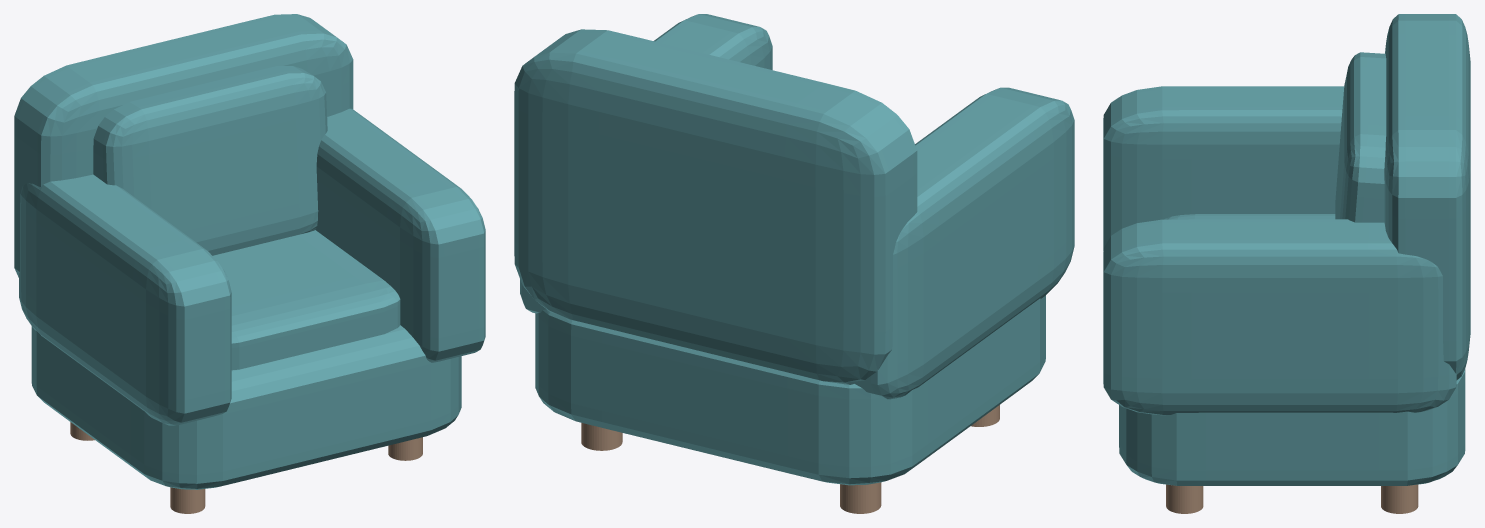
The model's file is armchair.glb.
3 renders of one model, left to right at view 1: azimuth 30°, elevation 25°; view 2: azimuth 150°, elevation 25°; view 3: azimuth 270°, elevation 25°, orthographic. The views are drawn at different scales.
Parts seen in each view (by area): view 1: arm-1, base, cushion0, arm1, back, seat0, foot-0.39-0.31, foot0.39-0.31; view 2: back, base, arm-1, arm1, foot-0.390.31, foot0.390.31; view 3: arm1, arm-1, base, back, cushion0, foot0.390.31, foot0.39-0.31, seat0.
Part boxes in pixels (x1=…): arm-1: x1=19, y1=174, x2=231, y2=425; base: x1=31, y1=325, x2=461, y2=489; cushion0: x1=93, y1=66, x2=327, y2=255; arm1: x1=315, y1=108, x2=485, y2=362; back: x1=14, y1=14, x2=353, y2=277; seat0: x1=213, y1=230, x2=400, y2=370; foot-0.39-0.31: x1=170, y1=487, x2=205, y2=513; foot0.39-0.31: x1=388, y1=437, x2=422, y2=460; back: x1=514, y1=29, x2=917, y2=384; base: x1=535, y1=295, x2=1045, y2=485; arm-1: x1=855, y1=87, x2=1074, y2=399; arm1: x1=520, y1=14, x2=772, y2=313; foot-0.390.31: x1=840, y1=482, x2=881, y2=513; foot0.390.31: x1=581, y1=423, x2=622, y2=450; arm1: x1=1103, y1=219, x2=1456, y2=415; arm-1: x1=1103, y1=86, x2=1344, y2=250; base: x1=1119, y1=369, x2=1465, y2=485; back: x1=1384, y1=14, x2=1470, y2=380; cushion0: x1=1335, y1=52, x2=1386, y2=222; foot0.390.31: x1=1381, y1=484, x2=1418, y2=513; foot0.39-0.31: x1=1166, y1=484, x2=1203, y2=513; seat0: x1=1164, y1=214, x2=1335, y2=219.
Bounding box in the file's own units: 1.16 × 1.19 × 1.06.
